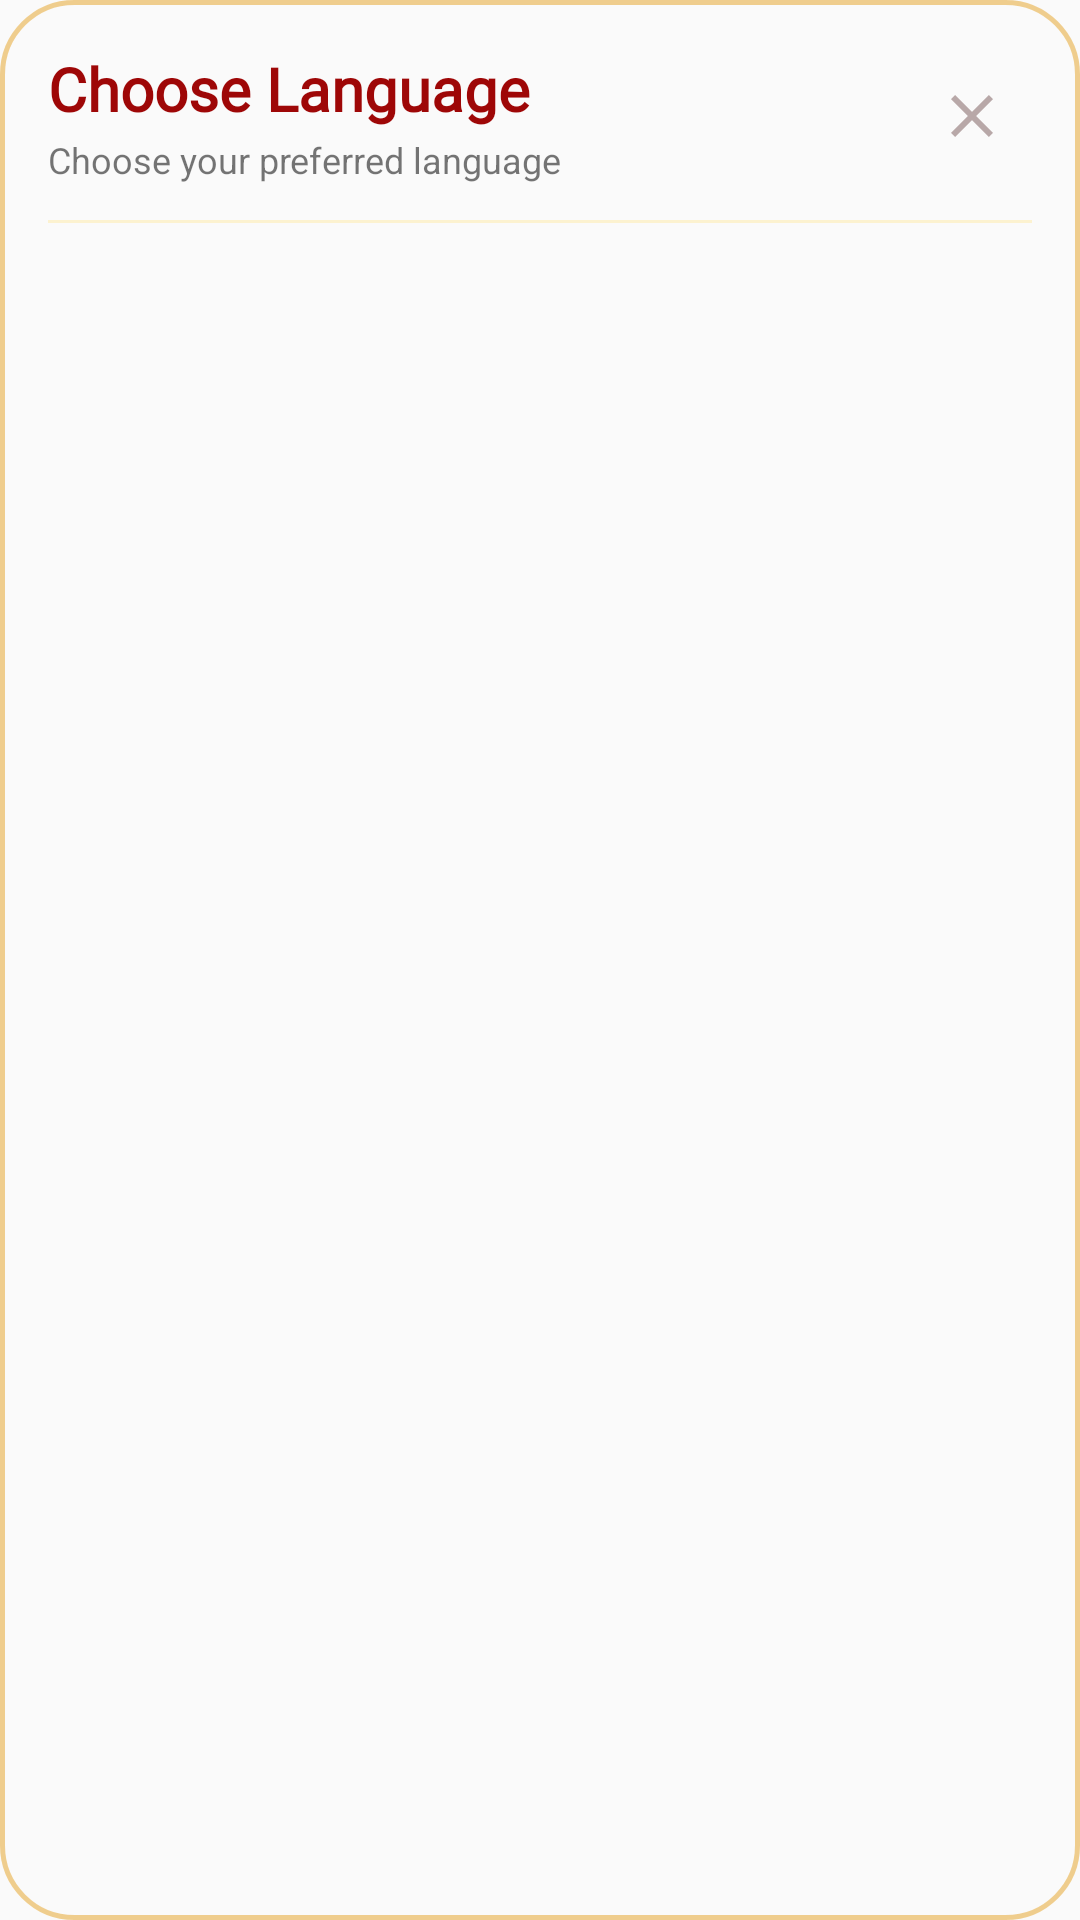

Icons on this 1080x1920 Android screen, each with its box as box(x1, y1, x2, y2):
clear: box(951, 95, 993, 137)
